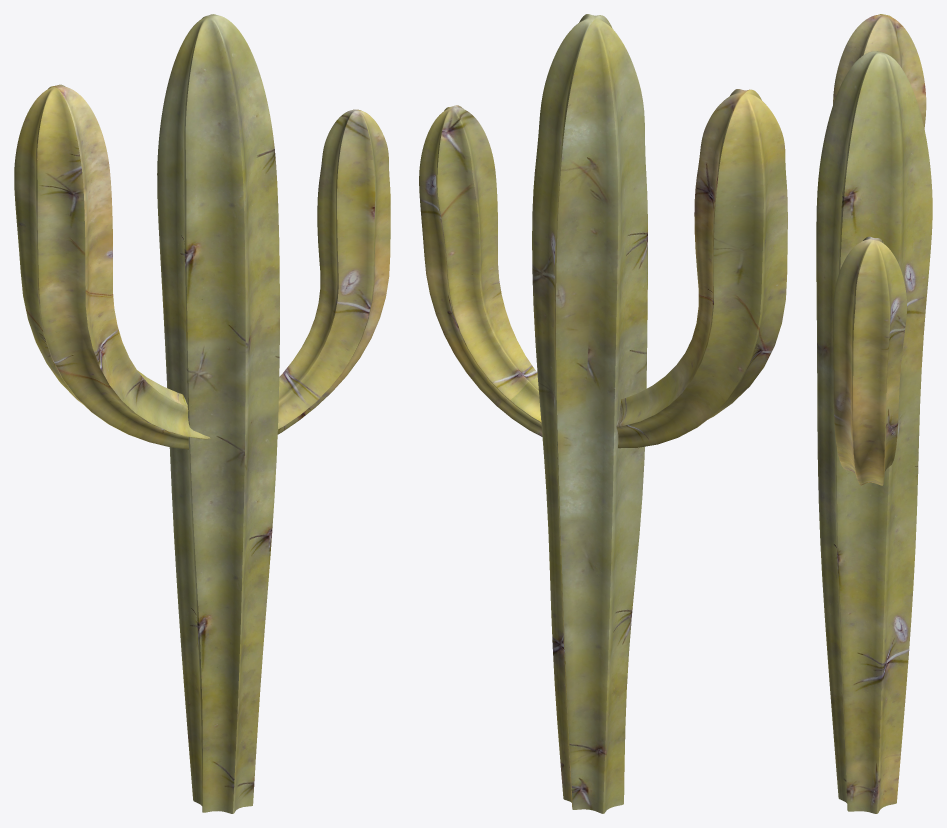
The model's file is cacto.fbx.
3 renders of one model, left to right at view 1: azimuth 30°, elevation 25°; view 2: azimuth 150°, elevation 25°; view 3: azimuth 270°, elevation 25°, orthographic. The views are drawn at different scales.
Parts seen in each view (by area): view 1: FG_Cactus_1_Shape; view 2: FG_Cactus_1_Shape; view 3: FG_Cactus_1_Shape.
Boxes of the visible parts, x1,y1,x2,y2 form: FG_Cactus_1_Shape: (14,14,390,813); FG_Cactus_1_Shape: (419,14,787,813); FG_Cactus_1_Shape: (816,14,932,813).
Size of the model in its own units: 136 by 290 by 40.89.
1 material, 1 textured.
